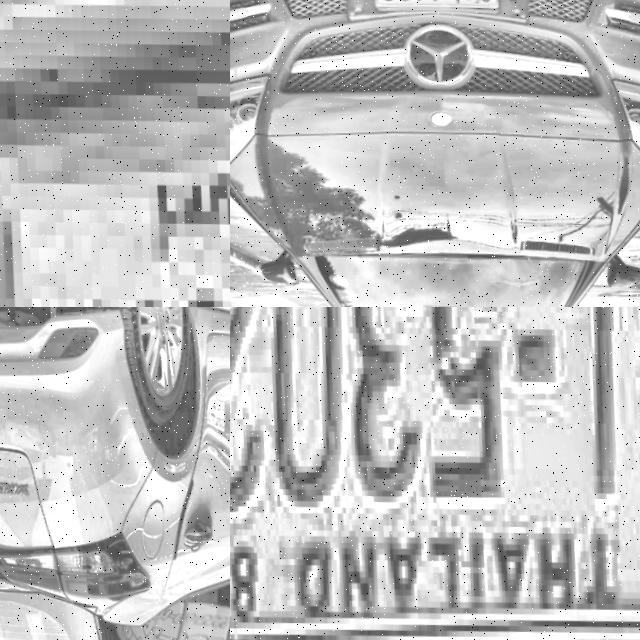license-plate: (230, 307, 640, 640), (0, 0, 230, 307), (364, 0, 504, 19)
